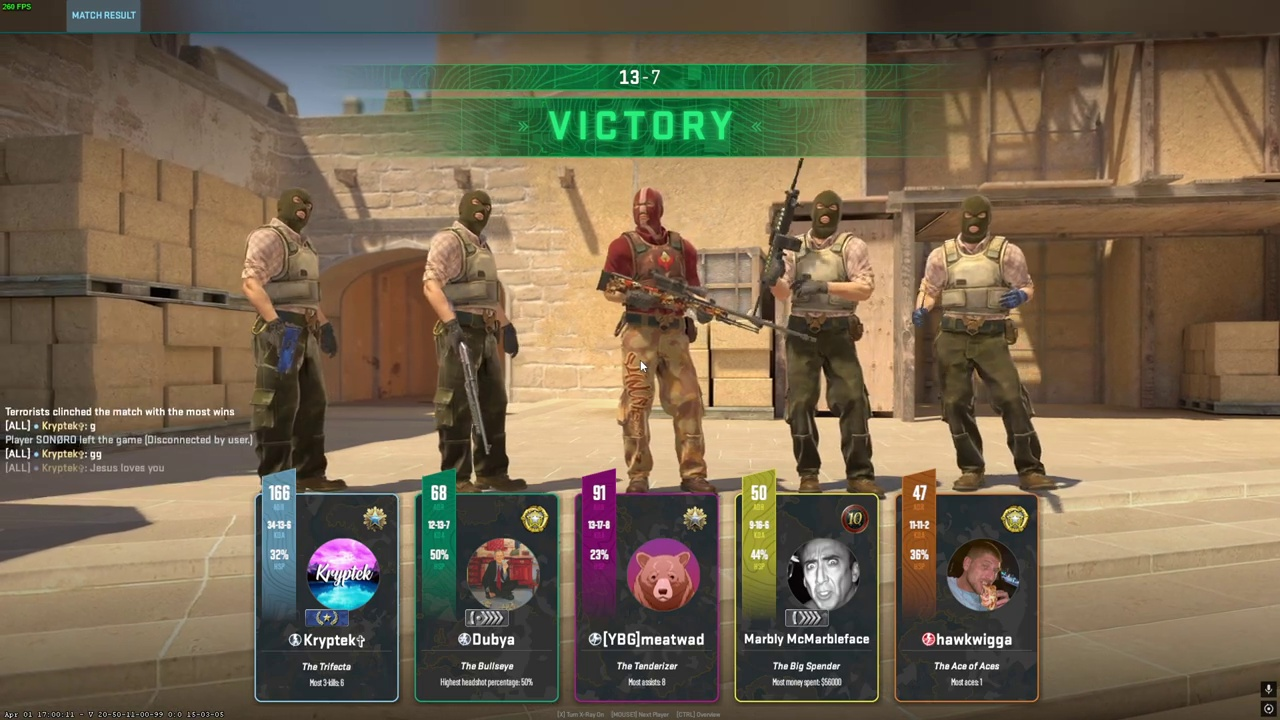Terrorist: (926, 195, 1041, 490), (767, 190, 877, 495), (604, 187, 711, 493), (424, 189, 523, 490), (240, 188, 339, 489)
